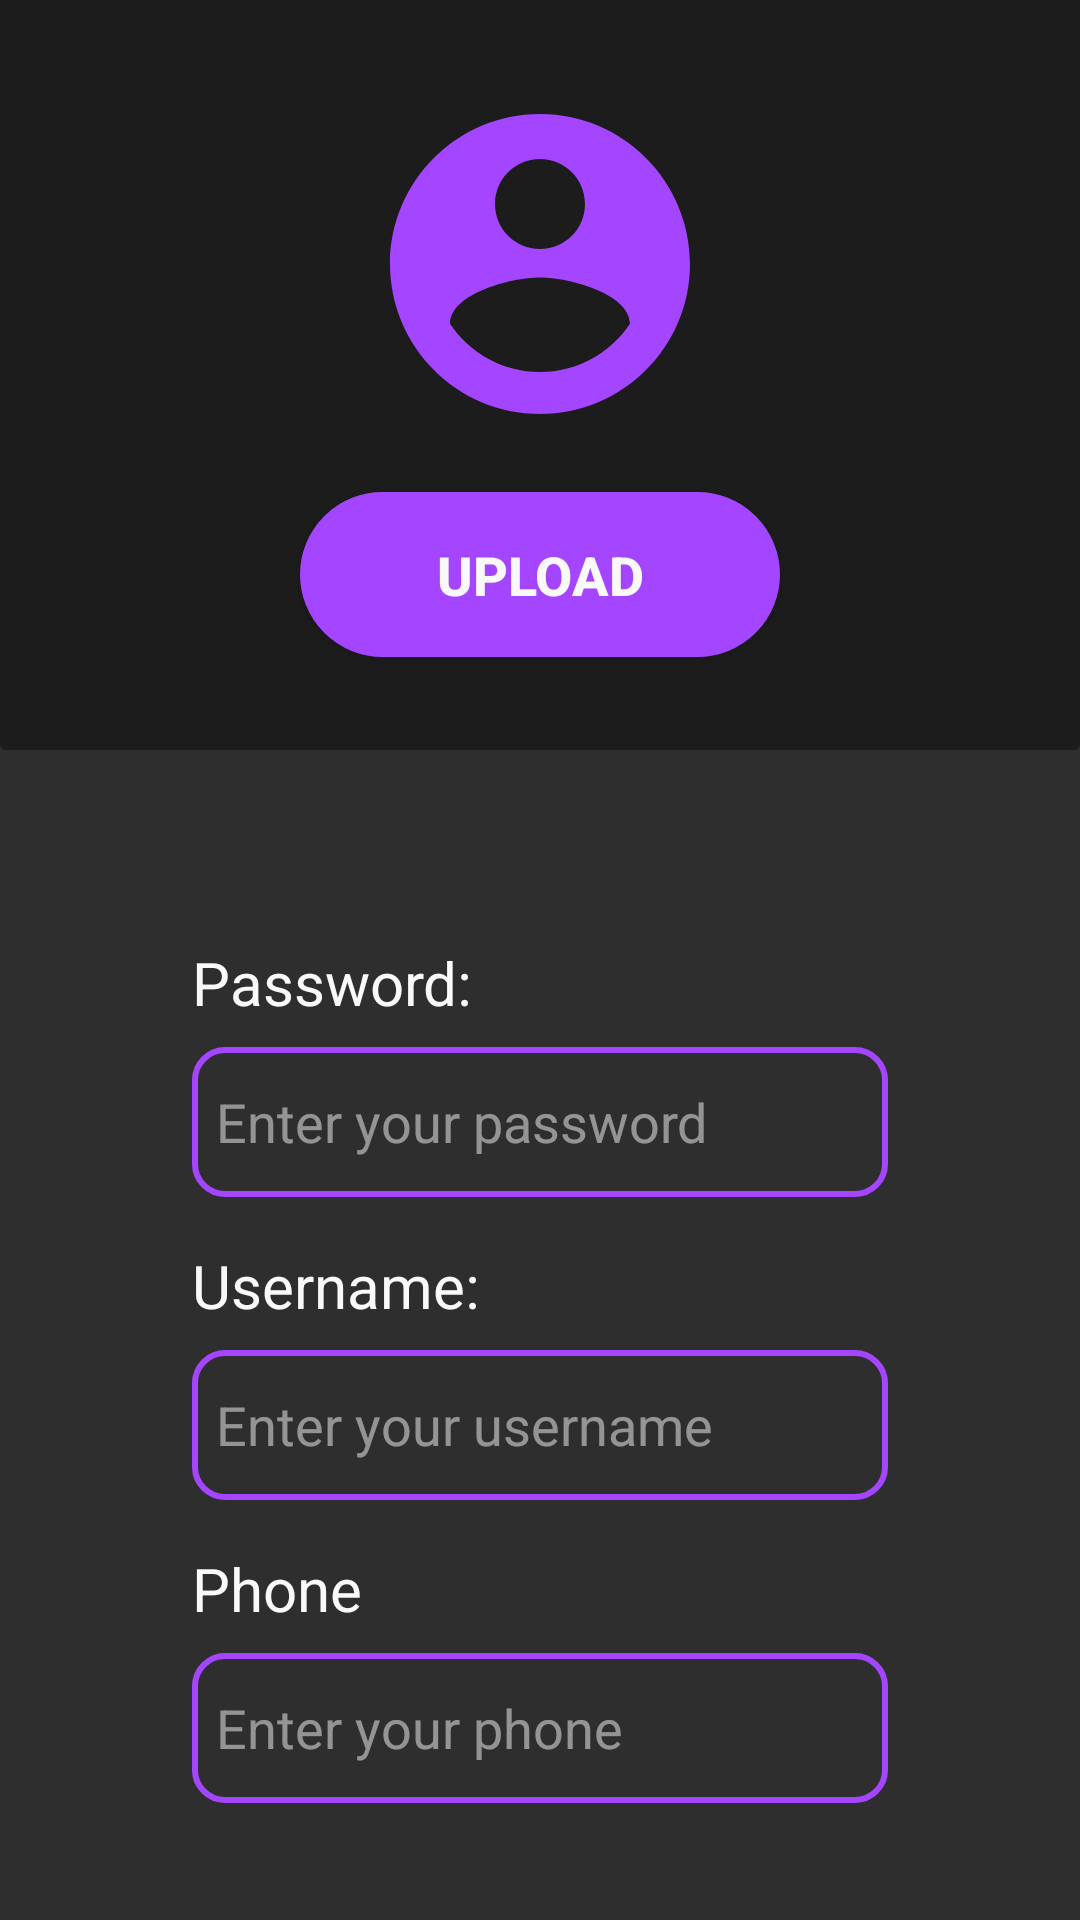

Named icons in this screenshot (1080px x 1920px) and their bounding boxes, box=[x1, y1, x2, y2]:
account circle: box=[390, 114, 690, 414]
